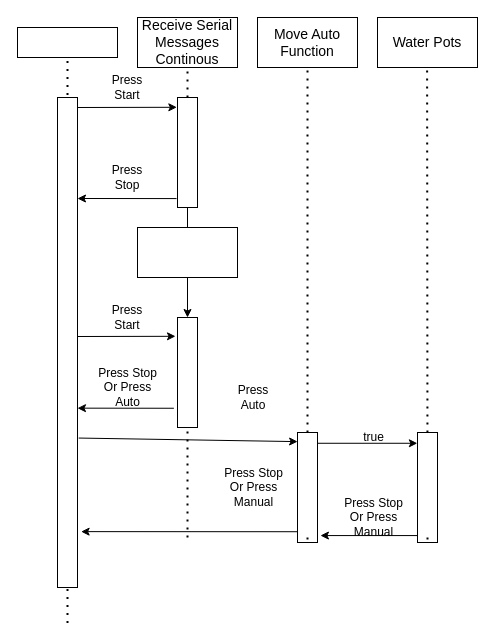
Some shapes in this 495 by 643 pixel diagram are drawn without their labels. Here are the shapes that lost their labels. From the top down, the centre of each, then its label:
(x=67, y=42): Main Thread
(x=187, y=252): Move Manual Function
